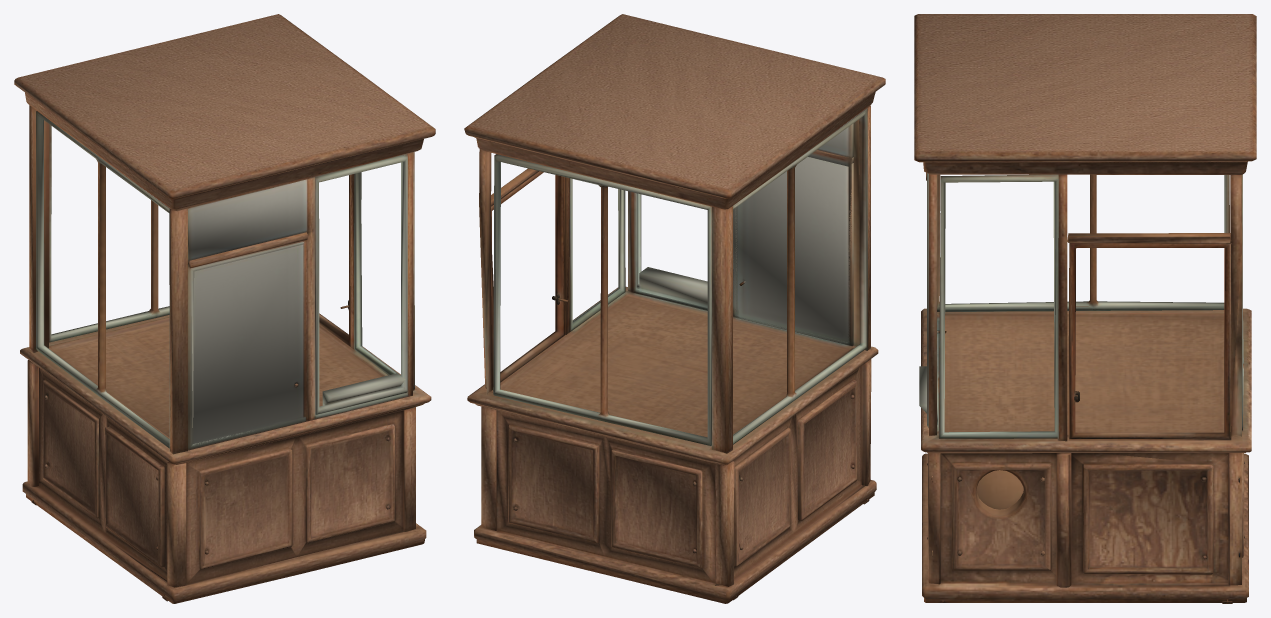
The model's file is theme-ticket-window-v05.glb.
The picture shows the model from 3 angles, left to right: view 1: azimuth 30°, elevation 25°; view 2: azimuth 150°, elevation 25°; view 3: azimuth 270°, elevation 25°; orthographic projection. The views are drawn at different scales.
Parts seen in each view (by area): view 1: tripo_node_732ae5ae-4ad6-491f-ab2e-97ed1fb6b082; view 2: tripo_node_732ae5ae-4ad6-491f-ab2e-97ed1fb6b082; view 3: tripo_node_732ae5ae-4ad6-491f-ab2e-97ed1fb6b082.
Part boxes in pixels (box(x1,y1,x2,y2)): tripo_node_732ae5ae-4ad6-491f-ab2e-97ed1fb6b082: box(14, 14, 435, 603); tripo_node_732ae5ae-4ad6-491f-ab2e-97ed1fb6b082: box(464, 14, 885, 603); tripo_node_732ae5ae-4ad6-491f-ab2e-97ed1fb6b082: box(914, 14, 1256, 603).
Bounding box in the file's own units: 0.8008 × 1.2 × 0.8196.
Materials: 1 (1 with a texture image).
